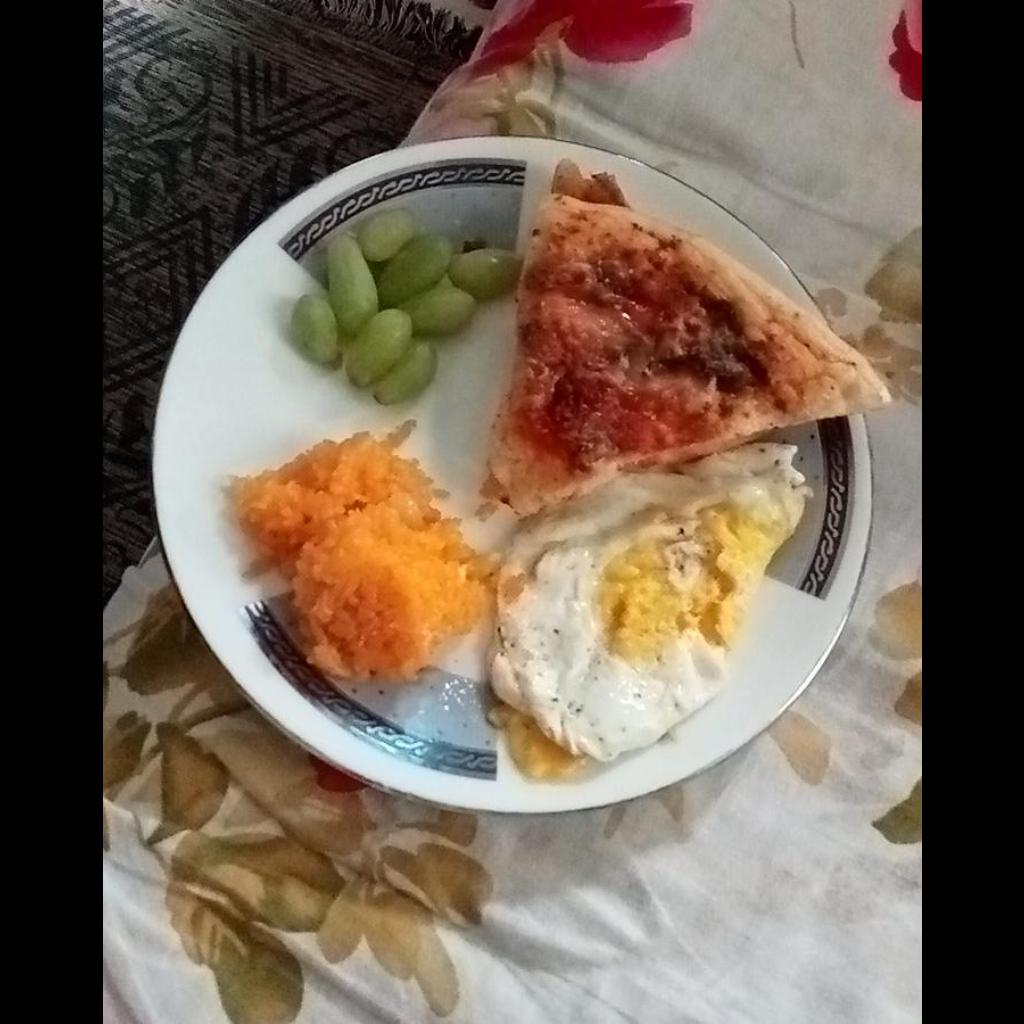egg-poached: (486, 437, 805, 781)
grapes: (283, 207, 517, 402)
ruti: (478, 155, 897, 507)
sweets: (228, 418, 498, 689)
